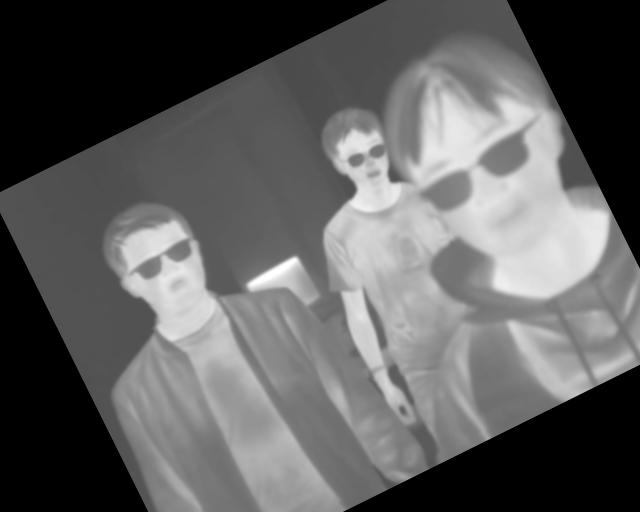face: (355, 8, 604, 286), (88, 184, 226, 335), (307, 95, 405, 205)
